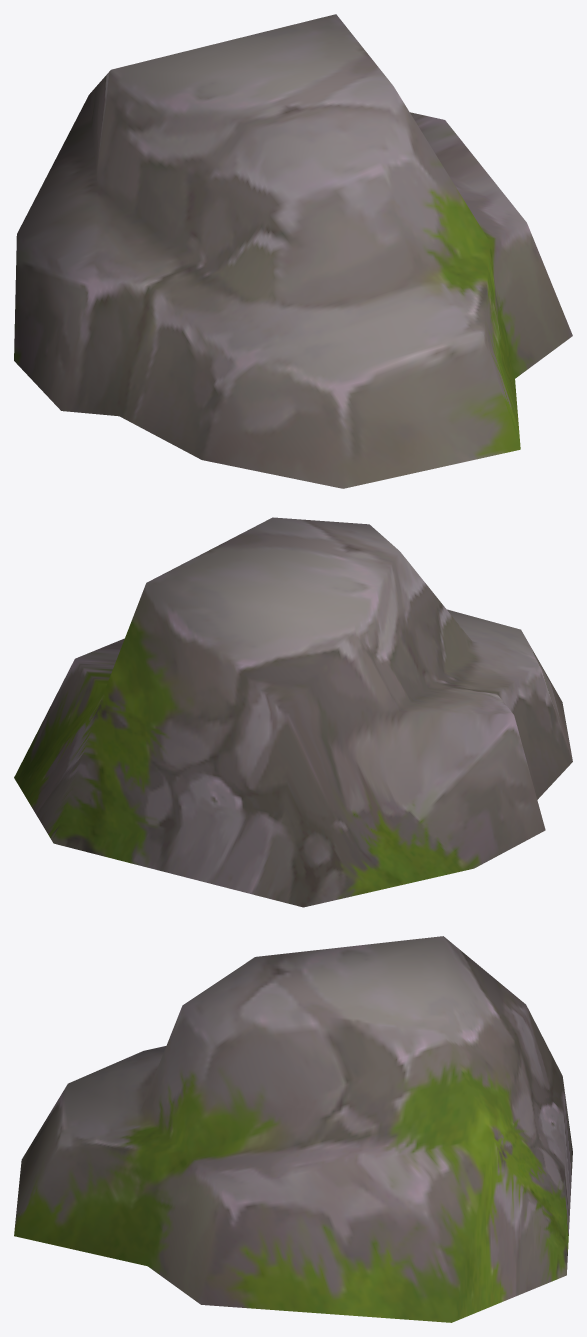
Rendered from GM_stone_05.FBX.
The picture shows the model from 3 angles, top to bottom: view 1: azimuth 30°, elevation 25°; view 2: azimuth 150°, elevation 25°; view 3: azimuth 270°, elevation 25°; orthographic projection. The views are drawn at different scales.
Visible parts, largest first — view 1: GM_stone_05; view 2: GM_stone_05; view 3: GM_stone_05.
Part boxes in pixels (<box>): GM_stone_05: <box>14,14,572,488</box>; GM_stone_05: <box>14,517,572,907</box>; GM_stone_05: <box>14,936,572,1322</box>.
Size of the model in its own units: 1.86 by 0.9137 by 1.98.
Materials: 1 (1 with a texture image).
